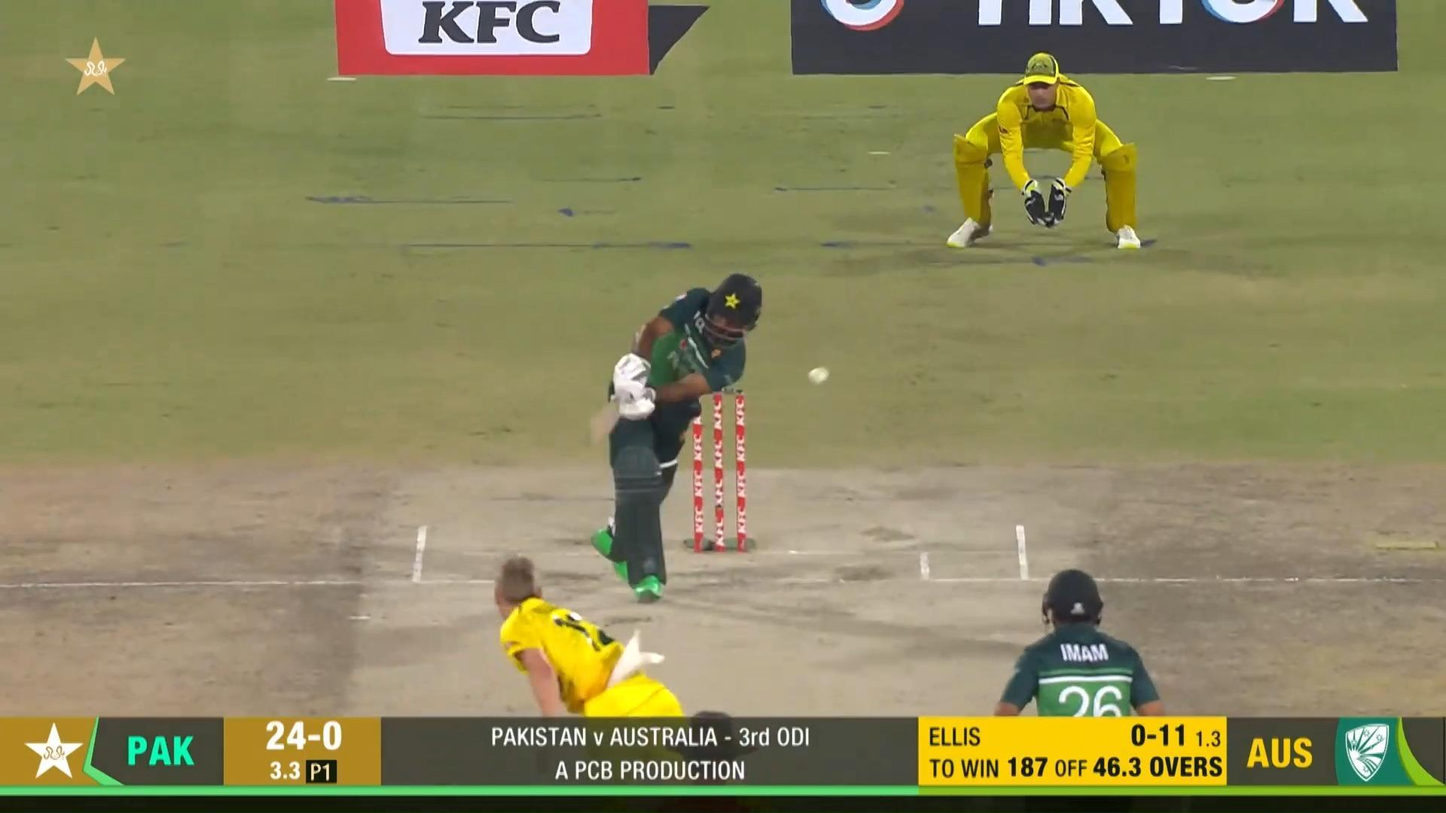BM 1: (587, 271, 764, 603)
BO: (491, 551, 722, 813)
